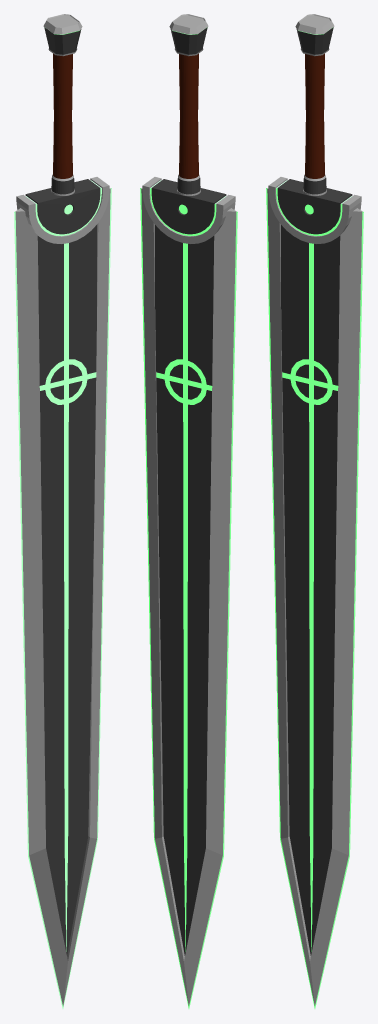
Rendered from Claymore_v2.fbx.
3 renders of one model, left to right at view 1: azimuth 30°, elevation 25°; view 2: azimuth 150°, elevation 25°; view 3: azimuth 330°, elevation 25°, orthographic.
Parts seen in each view (by area): view 1: Blade; view 2: Blade; view 3: Blade.
Boxes of the visible parts, box(x1,y1,x2,y2) form: Blade: box(14, 14, 111, 1008); Blade: box(140, 14, 237, 1008); Blade: box(266, 14, 363, 1008).
Size of the model in its own units: 13.05 by 126 by 3.86.
